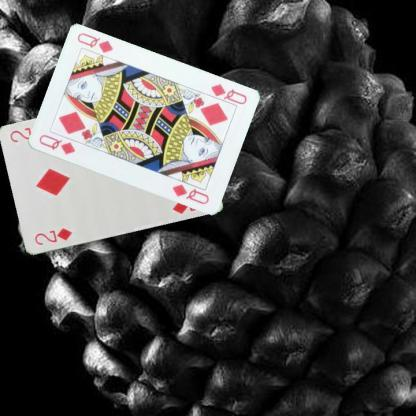2d: (32, 225, 73, 247)
Qd: (202, 82, 248, 108), (36, 132, 76, 156)
